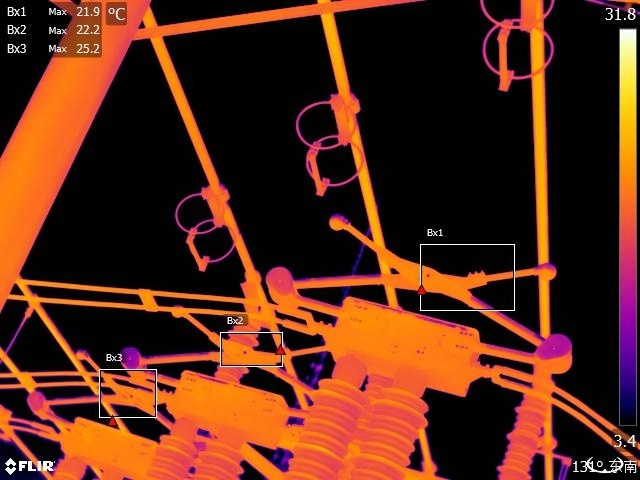insulator: (498, 379, 545, 480)
post insulator: (282, 359, 369, 480), (345, 376, 428, 480), (190, 427, 245, 480), (147, 424, 197, 480)
switch: (269, 195, 573, 370), (119, 298, 319, 435), (28, 340, 177, 461)
